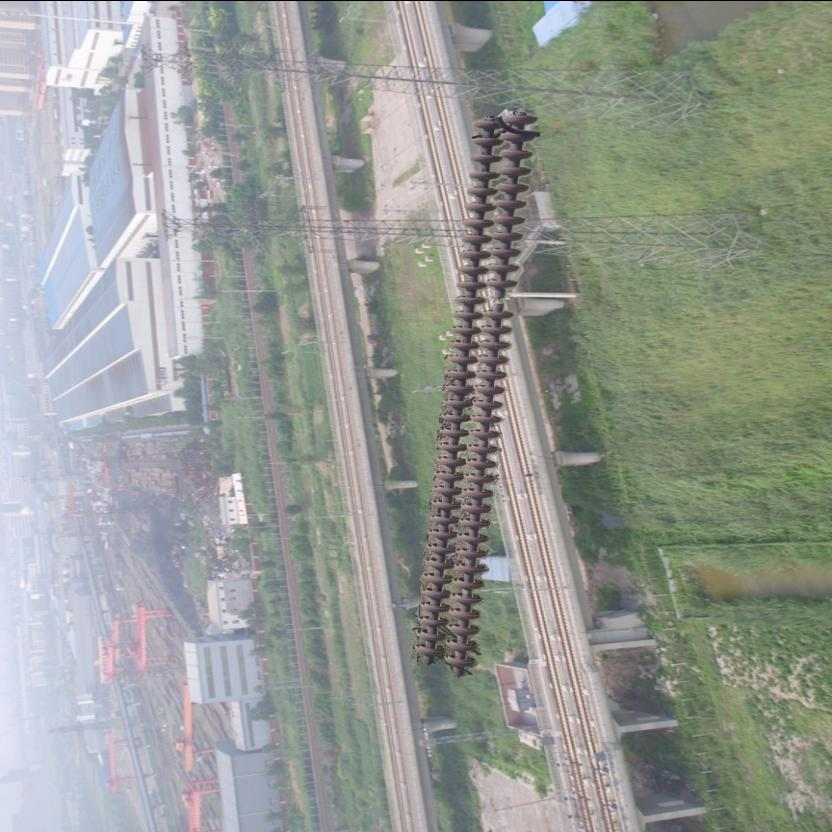defect: (481, 274, 517, 326)
